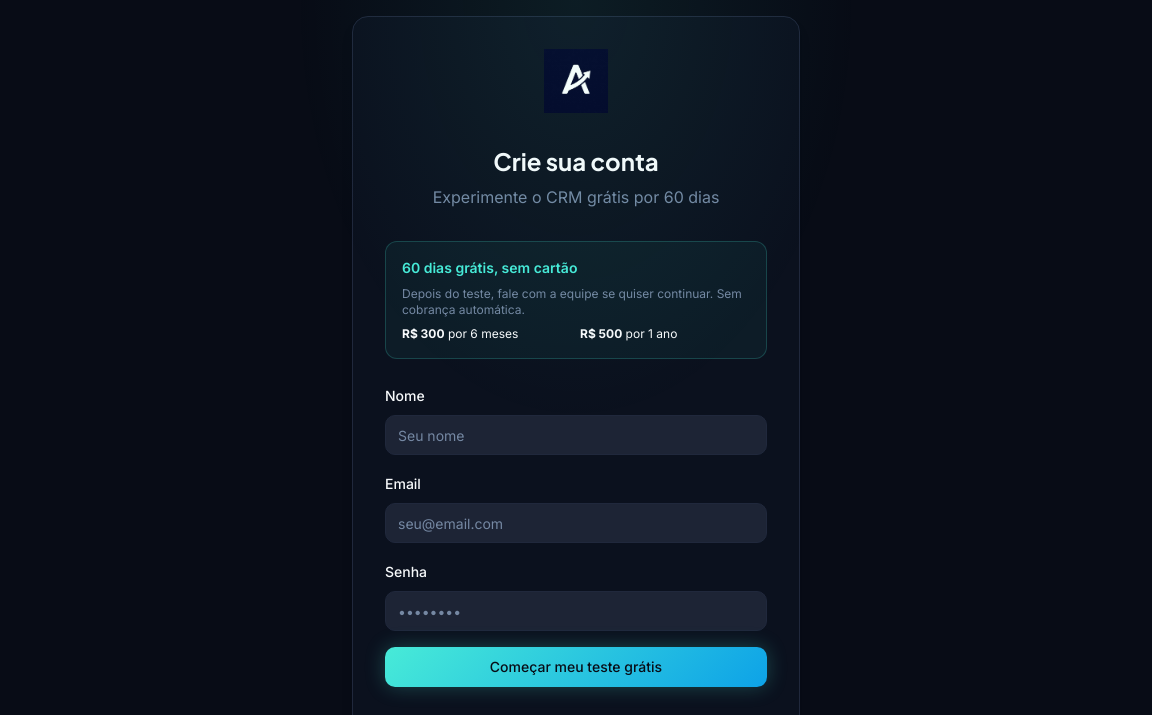
Scenario: Trial access UI and backend boundary › waits for email confirmation instead of announcing an active session
Type "Cliente Teste" into the field labelled "Nome" at (576, 435), box [385,415,767,455]
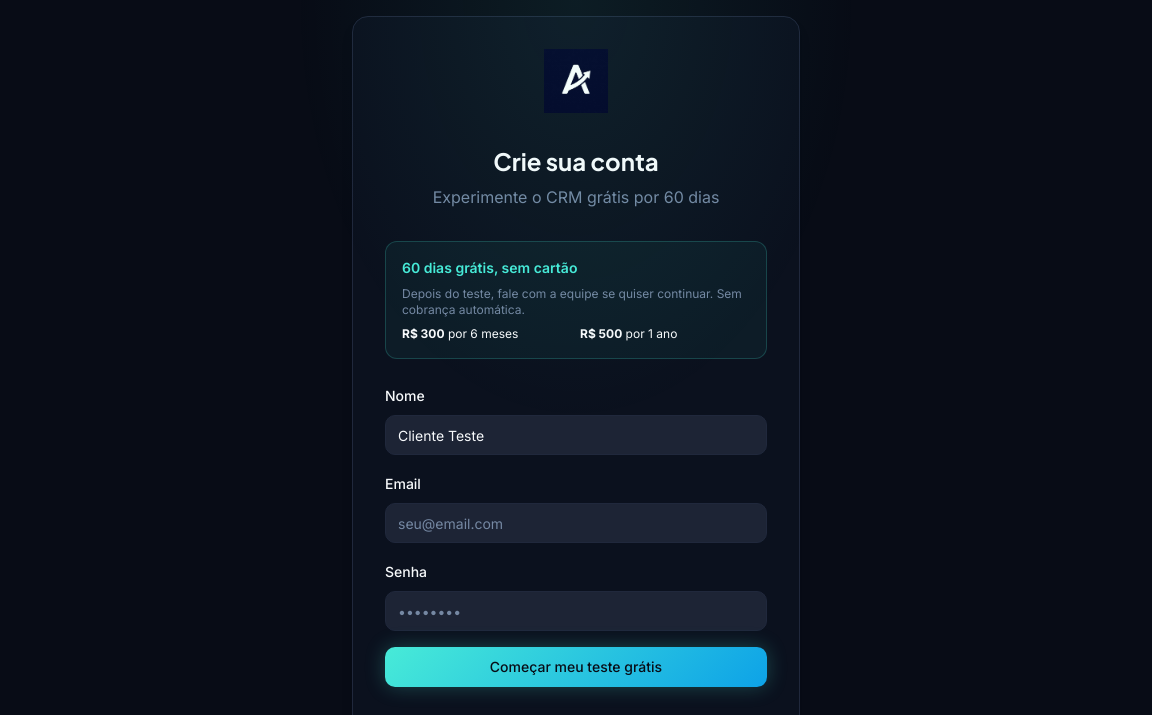
Type "teste@example.test" into the field labelled "Email" at (576, 523), box [385,503,767,543]
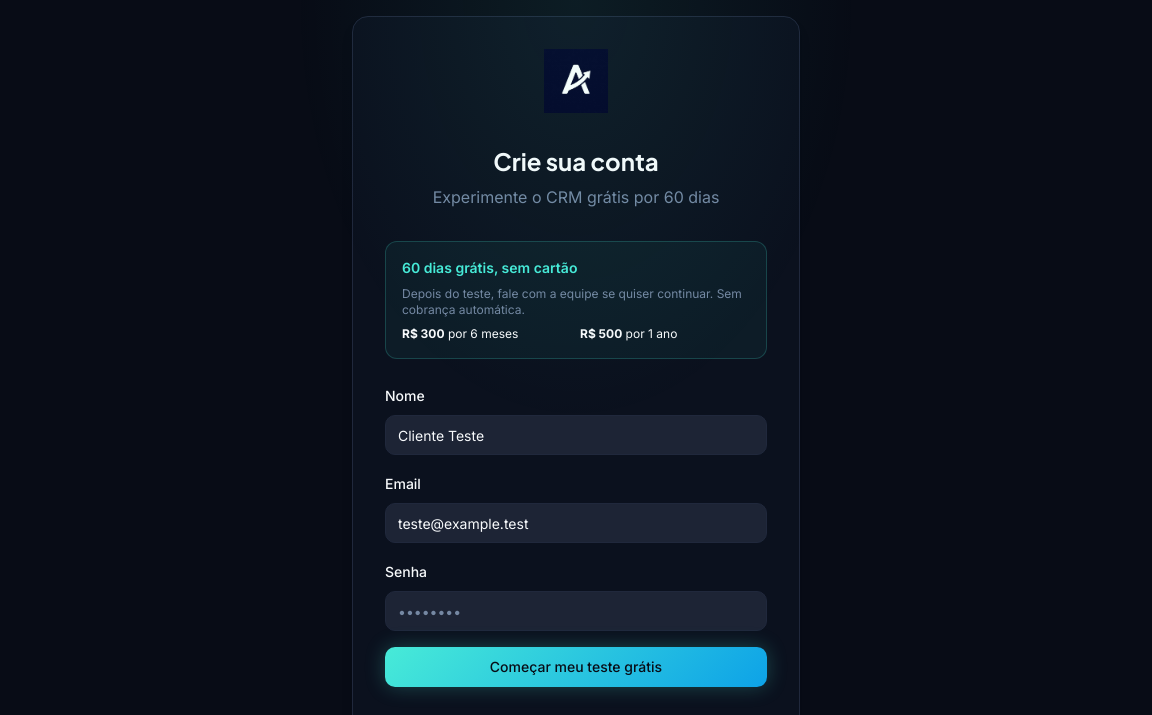
Type "Teste12345" into the password field labelled "Senha" at (576, 611), box [385,591,767,631]
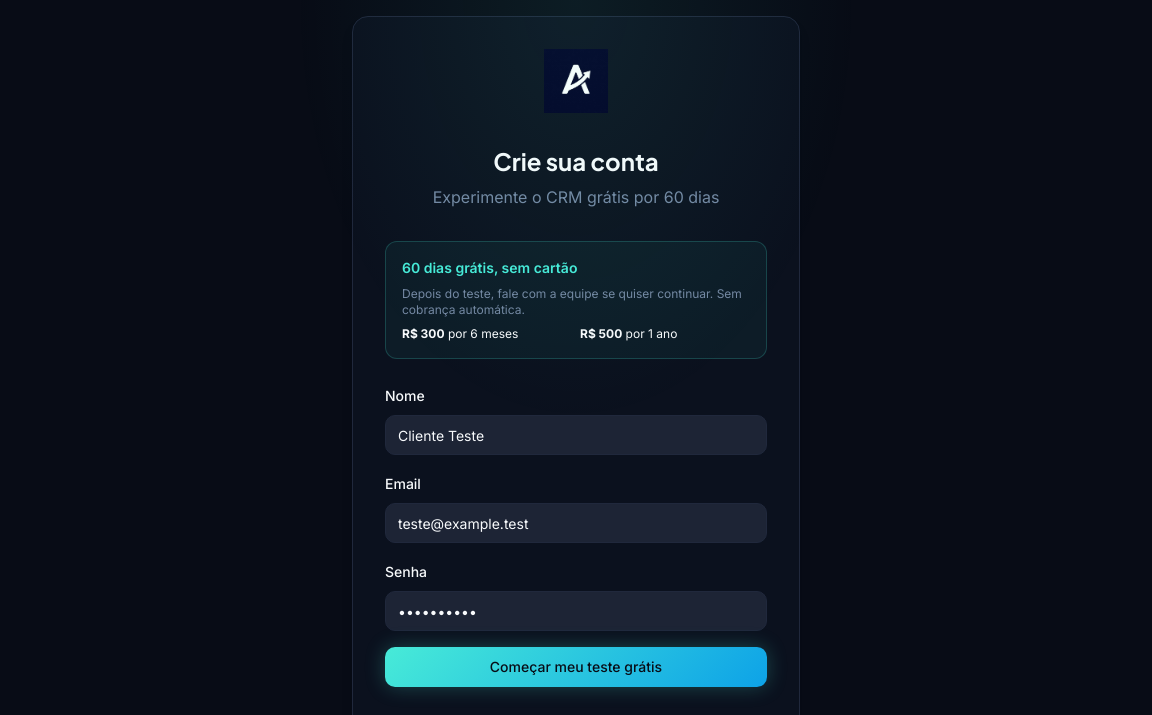
Click the button "Começar meu teste grátis" at (576, 667), box [385,647,767,687]
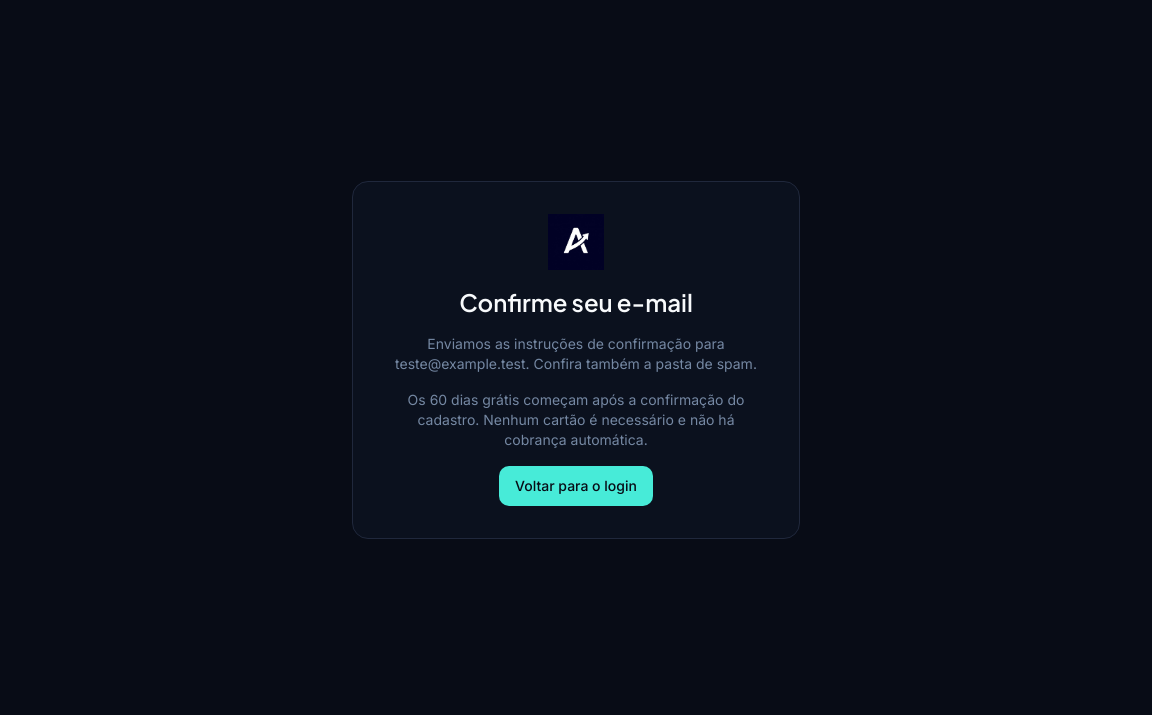
Expected: the heading "Confirme seu e-mail" is shown, [459,287,693,317]
Expected: the text "Os 60 dias grátis começam após a confirmação" is shown, [408,391,744,448]
